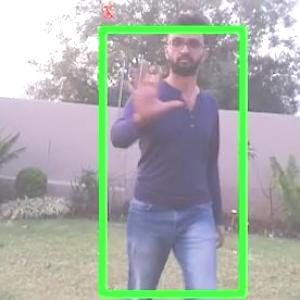follow_hand: (123, 51, 187, 122)
